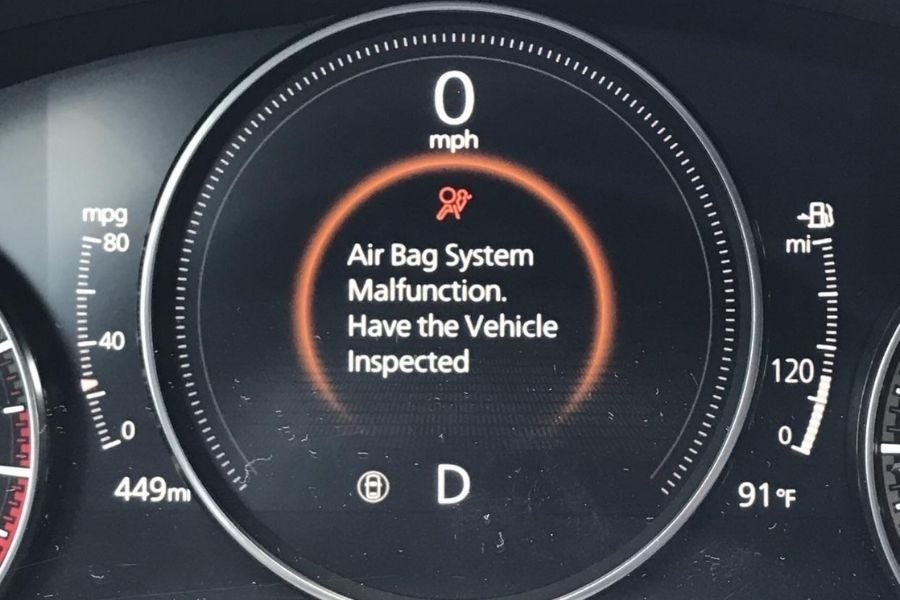Airbag_warning: (435, 184, 475, 223)
